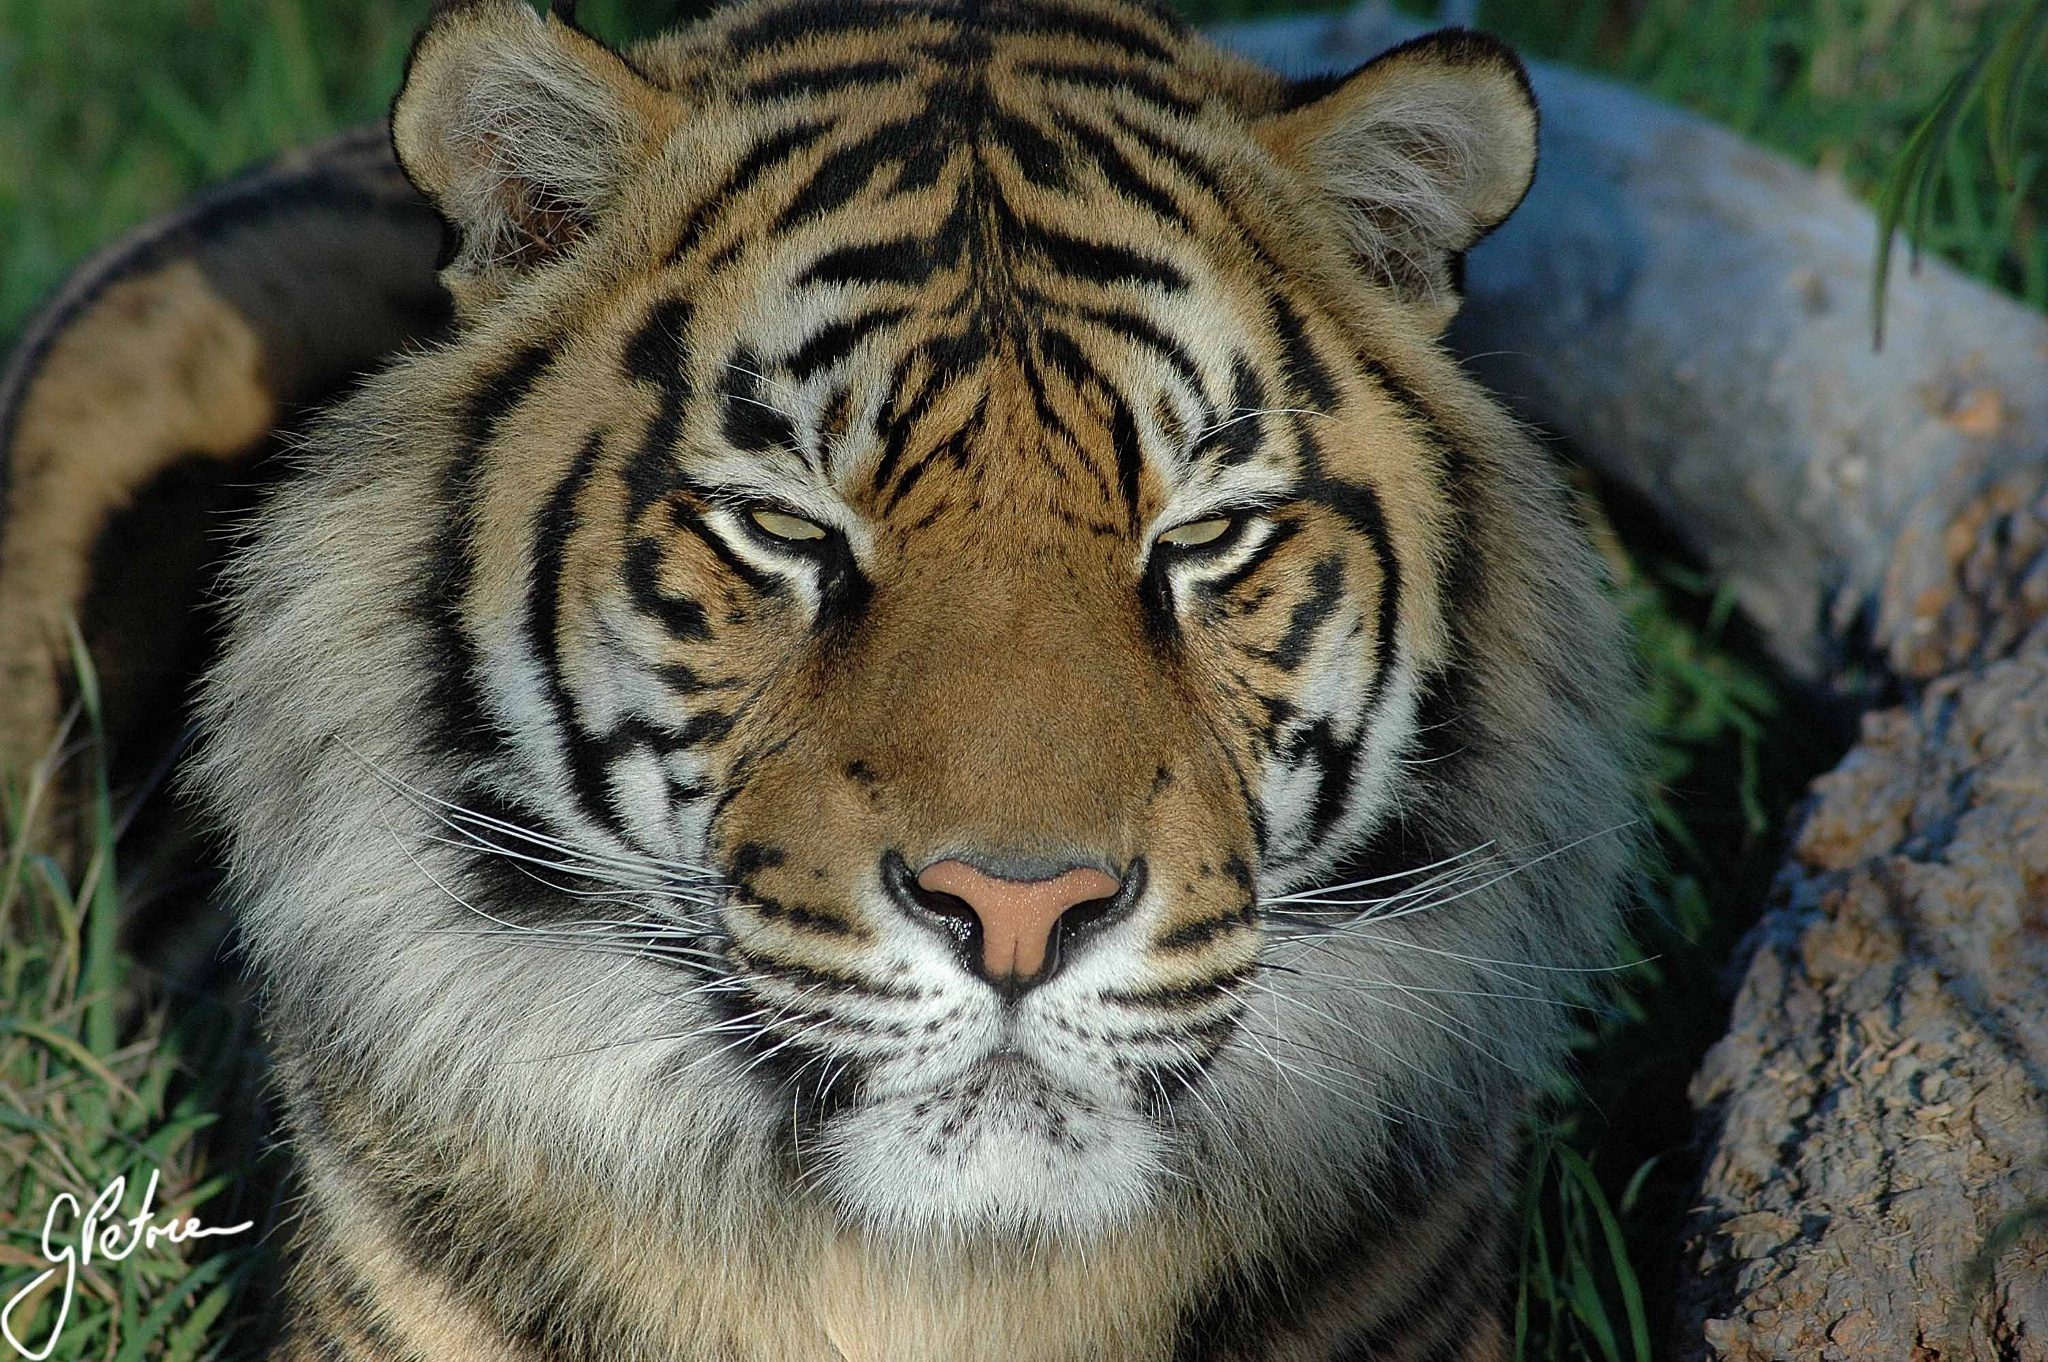tiger: (210, 24, 1651, 1266)
